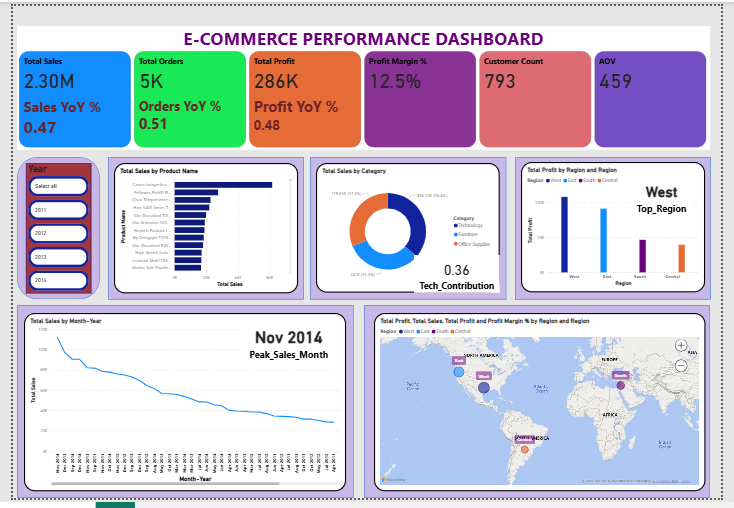

What the dashboard file says about the page in this screenshot:
{"tool":"powerbi","page":{"name":"DASHBOARD","canvas":[1950,1300],"ordinal":1},"visuals":[{"type":"shape","box":[10.2,361.2,228.6,391.8],"z":0},{"type":"shape","box":[1381.5,361.1,538.9,392.6],"z":1000},{"type":"shape","box":[816.7,361.1,540.7,392.6],"z":2000},{"type":"shape","box":[261.1,361.1,538.9,392.6],"z":3000},{"type":"cardVisual","title":"E-COMMERCE PERFORMANCE DASHBOARD","fields":{"Data":["Cleaned Orders.Total Sales","Cleaned Orders.Total Orders","Cleaned Orders.Total Profit","Cleaned Orders.Profit Margin %","Cleaned Orders.Customer Count","Cleaned Orders.AOV"]},"box":[11.1,0,1909.3,340.7],"z":4000},{"type":"donutChart","fields":{"Category":["Cleaned Orders.Category"],"Y":["Cleaned Orders.Total Sales"]},"box":[833.3,377.8,505.6,357.4],"z":5000},{"type":"clusteredColumnChart","fields":{"Category":["Cleaned Orders.Region"],"Series":["Cleaned Orders.Region"],"Y":["Cleaned Orders.Total Profit"]},"box":[1400,375.9,507.4,359.3],"z":6000},{"type":"advancedSlicerVisual","fields":{"Values":["Date.Year"]},"box":[34.7,377.6,179.6,359.2],"z":7000},{"type":"clusteredBarChart","fields":{"Y":["Cleaned Orders.Total Sales"],"Category":["Cleaned Orders.Product Name"]},"box":[277.8,377.8,507.4,359.3],"z":8000},{"type":"shape","box":[11.1,768.9,926.7,531.1],"z":9000},{"type":"lineChart","fields":{"Y":["Cleaned Orders.Total Sales"],"Category":["Date.Month-Year"]},"box":[31.1,791.1,886.7,491.1],"z":10000},{"type":"shape","box":[966.7,768.9,953.3,531.1],"z":11000},{"type":"map","fields":{"Category":["Cleaned Orders.Region"],"Size":["Cleaned Orders.Total Profit"],"Series":["Cleaned Orders.Region"]},"box":[995.6,791.1,913.3,491.1],"z":12000},{"type":"card","fields":{"Values":["Cleaned Orders.Tech_Contribution"]},"box":[1104.4,631.1,235.6,104.4],"z":13000},{"type":"card","fields":{"Values":["Date.Peak_Sales_Month"]},"box":[624.4,808.9,268.9,117.8],"z":14000},{"type":"card","fields":{"Values":["Cleaned Orders.Top_Region"]},"box":[1702.2,404.4,168.9,128.9],"z":15000}]}

Visuals, with their boxes in screenshot pixels (x1, y1, x2, y2):
shape: [21,160,103,300]
shape: [512,160,705,300]
shape: [310,160,503,300]
shape: [111,160,304,300]
"E-COMMERCE PERFORMANCE DASHBOARD" cardVisual: [21,31,705,153]
donutChart - Cleaned Orders.Category x Cleaned Orders.Total Sales: [316,166,497,294]
clusteredColumnChart - Cleaned Orders.Region x Cleaned Orders.Region: [518,165,700,294]
advancedSlicerVisual - Date.Year: [30,166,94,294]
clusteredBarChart - Cleaned Orders.Total Sales x Cleaned Orders.Product Name: [117,166,298,294]
shape: [21,306,353,496]
lineChart - Cleaned Orders.Total Sales x Date.Month-Year: [28,314,346,490]
shape: [363,306,705,496]
map - Cleaned Orders.Region x Cleaned Orders.Total Profit: [374,314,701,490]
card - Cleaned Orders.Tech_Contribution: [413,257,497,294]
card - Date.Peak_Sales_Month: [241,320,337,362]
card - Cleaned Orders.Top_Region: [627,175,687,222]
